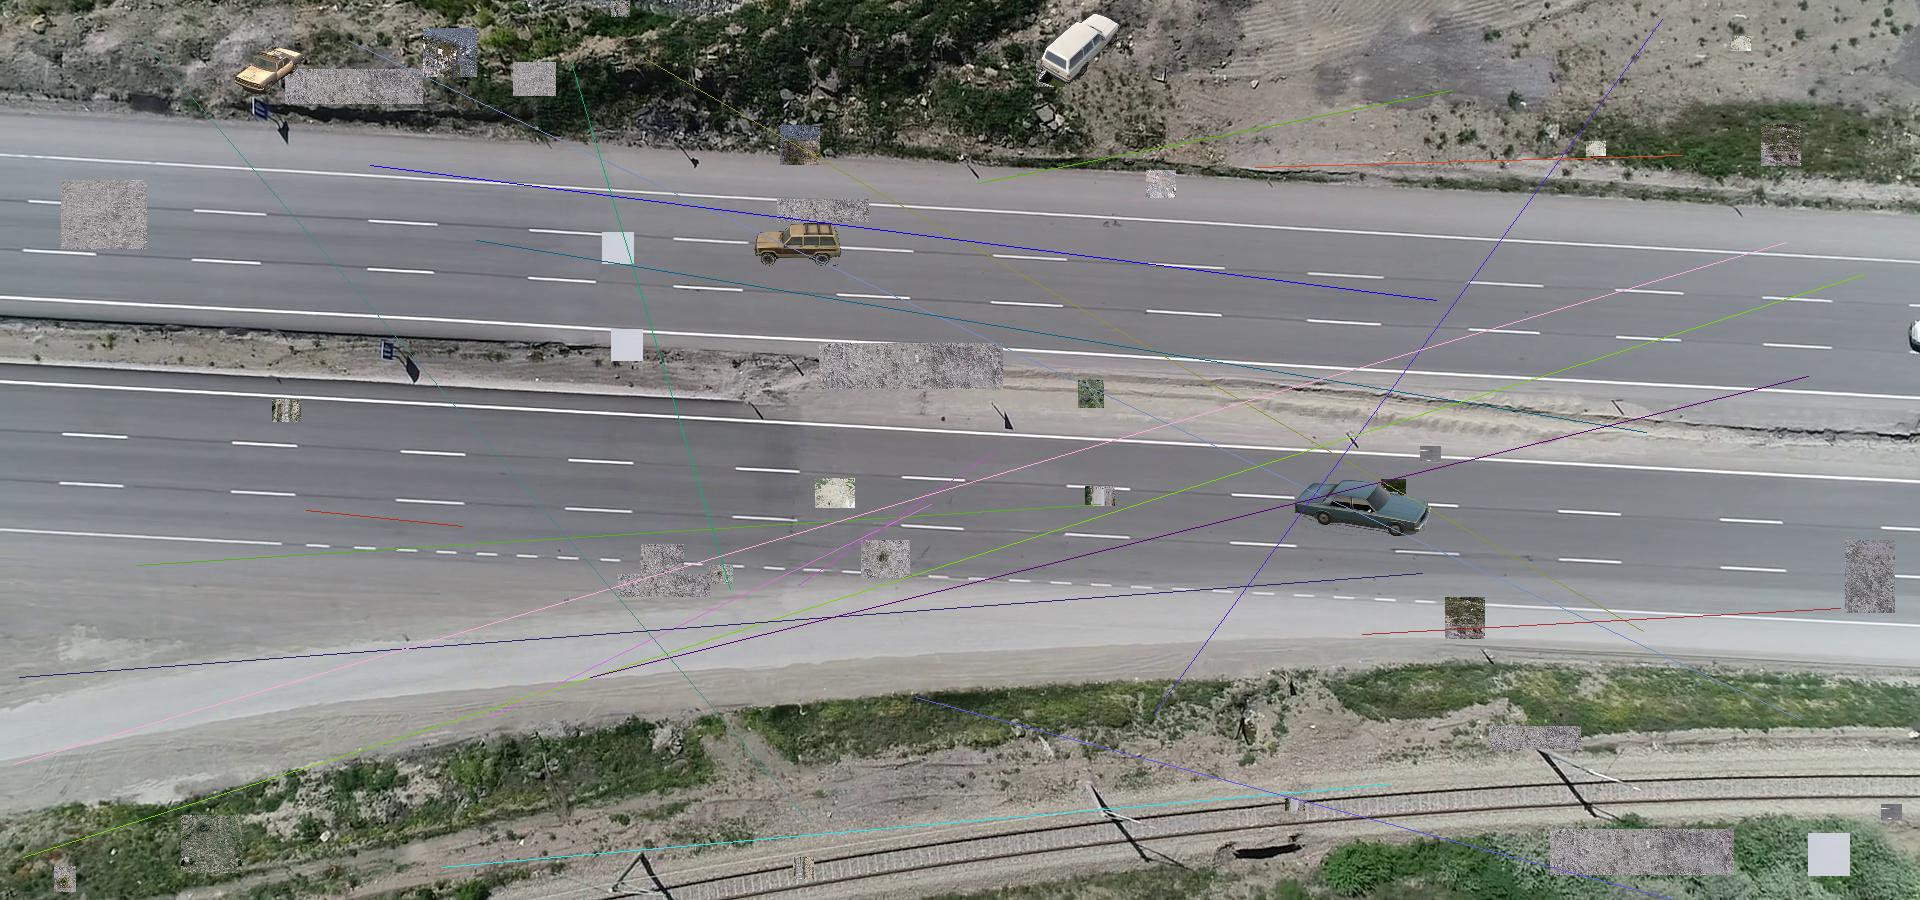arac: (1296, 479, 1431, 536), (1040, 9, 1120, 84), (753, 220, 842, 266), (234, 45, 306, 98)
